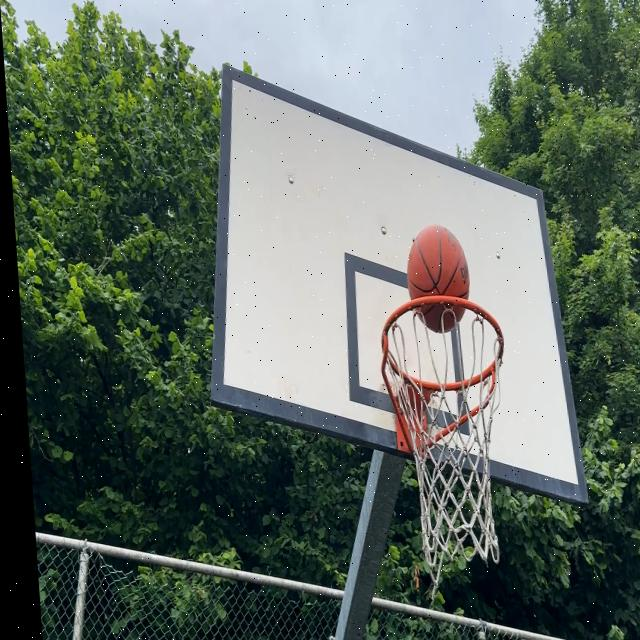rebound_hit: (404, 228, 474, 334)
